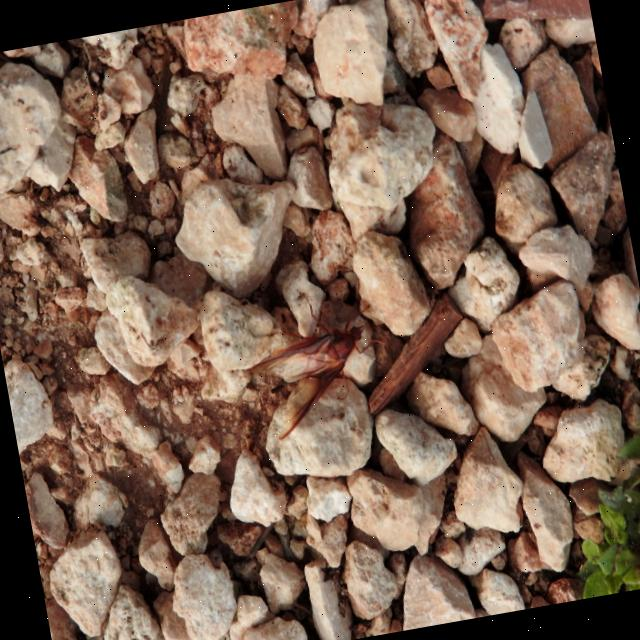Alive-Male-Alate: (237, 275, 399, 443)
